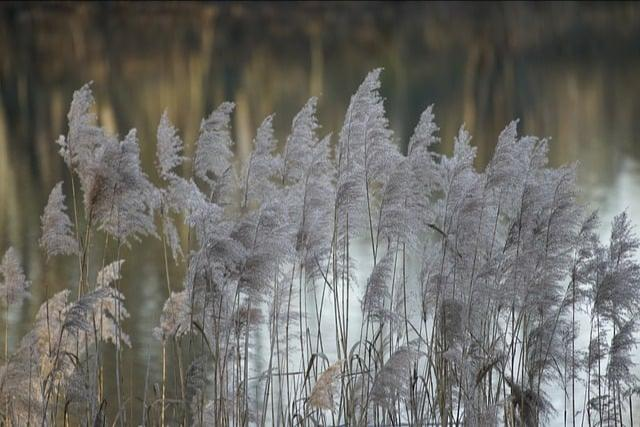Non_Gorille: (49, 57, 583, 409)
